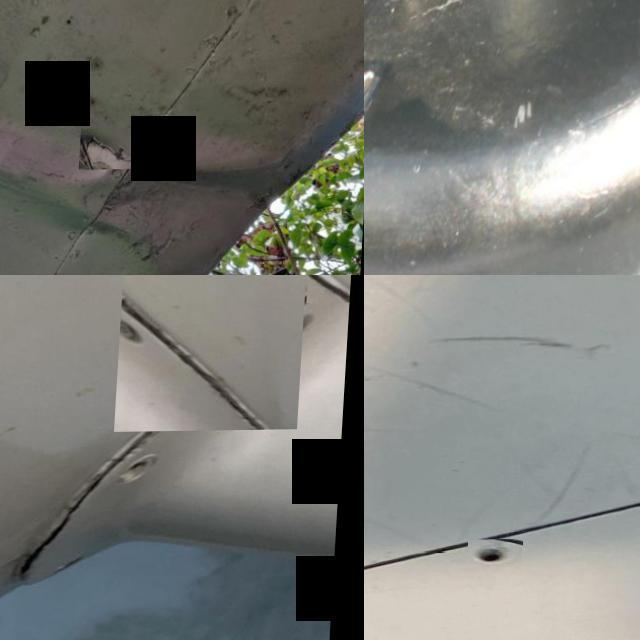Crack: (119, 275, 309, 433), (0, 457, 118, 582), (82, 130, 148, 170), (310, 275, 357, 305)
Dent: (0, 0, 334, 275)
Missing_Fastener: (124, 450, 168, 490), (473, 540, 529, 566)
